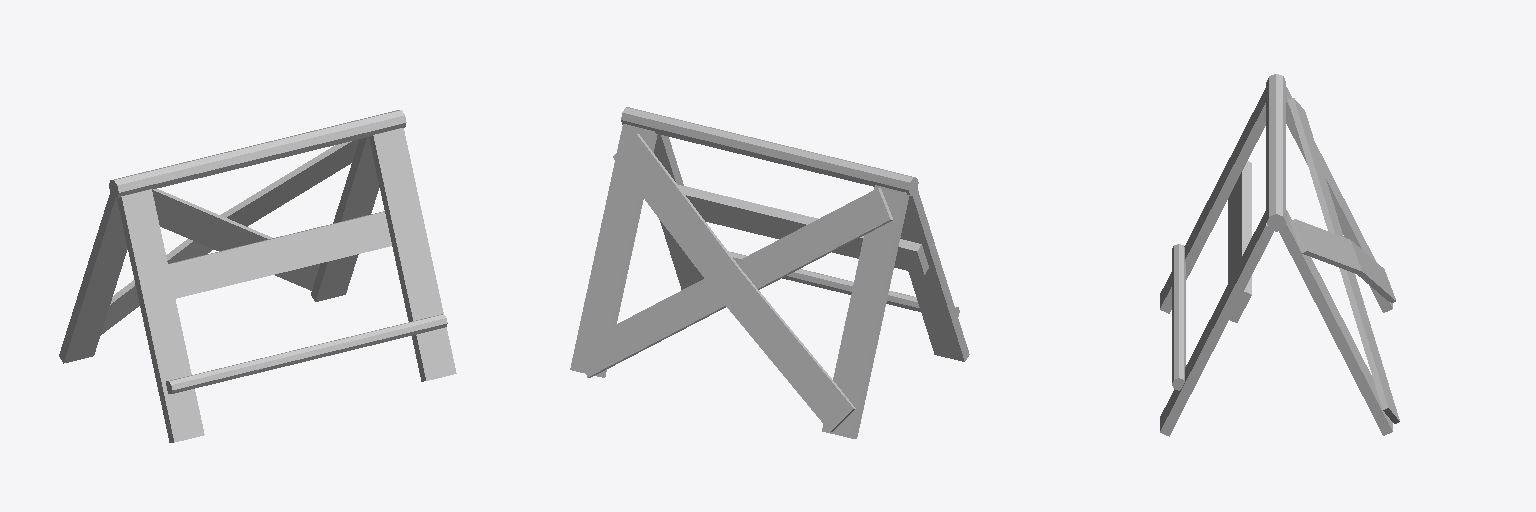
File: rack.obj
3 views of the same model, side by side, from view 1: azimuth 30°, elevation 25°; view 2: azimuth 150°, elevation 25°; view 3: azimuth 270°, elevation 25° (orthographic).
Visible parts, largest first — view 1: rack pCube16, rack pCube21, rack pCube23, rack pCylinder2, rack pCube20, rack pCube25, rack pCylinder3, rack pCube24, pCube22 rack; view 2: rack pCube25, rack pCube24, rack pCube20, pCube22 rack, rack pCylinder2, rack pCube23, rack pCube16, rack pCube21, rack pCylinder3; view 3: rack pCube24, rack pCube21, pCube22 rack, rack pCube16, rack pCylinder2, rack pCube25, rack pCube23, rack pCylinder3, rack pCube20.
Part boxes in pixels (x1,y1,x2,y2): rack pCube16: (117,189,204,442); rack pCube21: (369,128,456,381); rack pCube23: (168,211,391,298); rack pCylinder2: (109,110,406,197); rack pCube20: (59,193,127,363); rack pCube25: (101,139,358,334); rack pCylinder3: (166,314,447,393); rack pCube24: (152,189,319,290); pCube22 rack: (311,137,379,301); rack pCube25: (613,134,855,431); rack pCube24: (575,188,892,377); rack pCube20: (822,185,909,438); pCube22 rack: (570,124,657,377); rack pCylinder2: (621,107,918,195); rack pCube23: (677,184,928,274); rack pCube16: (900,189,969,361); rack pCube21: (654,134,703,289); rack pCylinder3: (728,251,959,316); rack pCube24: (1288,98,1399,423); rack pCube21: (1160,211,1273,436); pCube22 rack: (1279,210,1392,435); rack pCube16: (1160,88,1265,313); rack pCylinder2: (1266,74,1285,231); rack pCube25: (1290,219,1395,302); rack pCube23: (1228,161,1251,322); rack pCylinder3: (1172,244,1185,390); rack pCube20: (1286,87,1392,312).
Size of the model in its own units: 1.42 by 1.06 by 1.03.